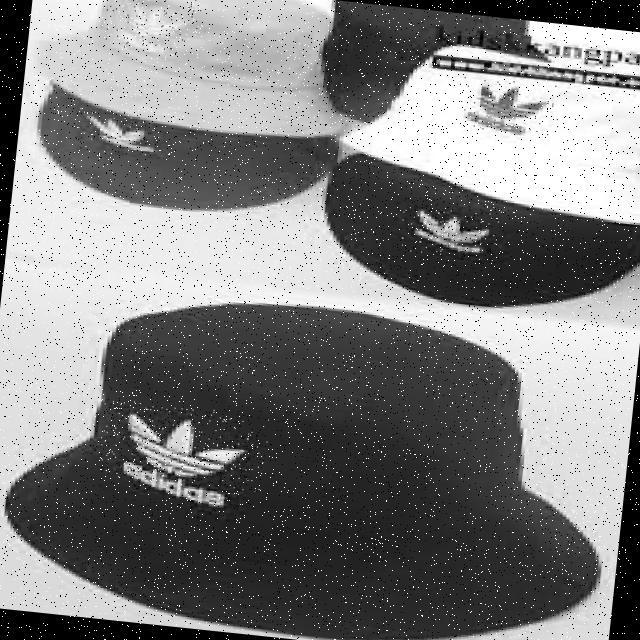Adidas: (97, 398, 270, 492), (455, 75, 566, 139), (398, 197, 506, 262), (101, 0, 202, 55), (68, 106, 160, 157)
